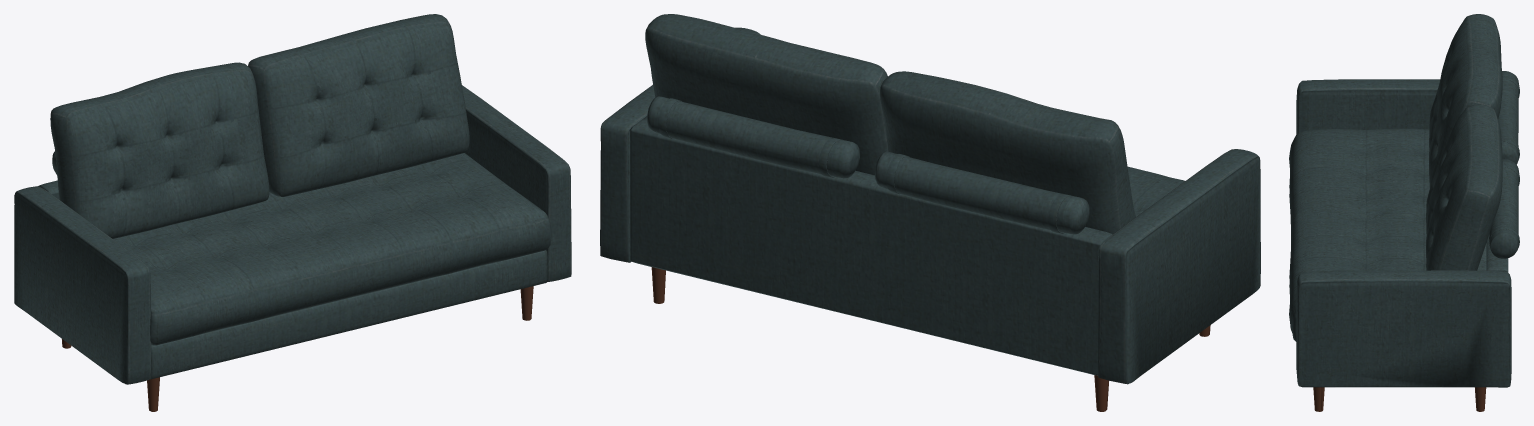
Rendered from B07PC15YLQ.glb.
3 renders of one model, left to right at view 1: azimuth 30°, elevation 25°; view 2: azimuth 150°, elevation 25°; view 3: azimuth 270°, elevation 25°, orthographic. The views are drawn at different scales.
Visible parts, largest first — view 1: RootNode; view 2: RootNode; view 3: RootNode.
Part boxes in pixels (box(x1,y1,x2,y2)): RootNode: box(14, 14, 571, 411); RootNode: box(600, 14, 1260, 411); RootNode: box(1289, 14, 1519, 411).
Size of the model in its own units: 2.01 by 1.05 by 0.9664.
Materials: 1 (1 with a texture image).
